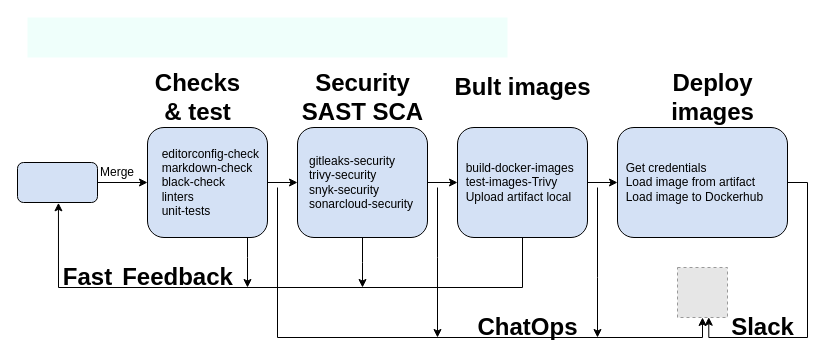
Image size: 833x364. Some labels were removed from this diagram. Grey dashed boxes stand in for pictures. The box of each missing label's shape, as (x1, y1, x2, y2) in pixels:
Github action Application workflow: (27, 17, 507, 57)
Github main branch: (16, 162, 98, 202)
